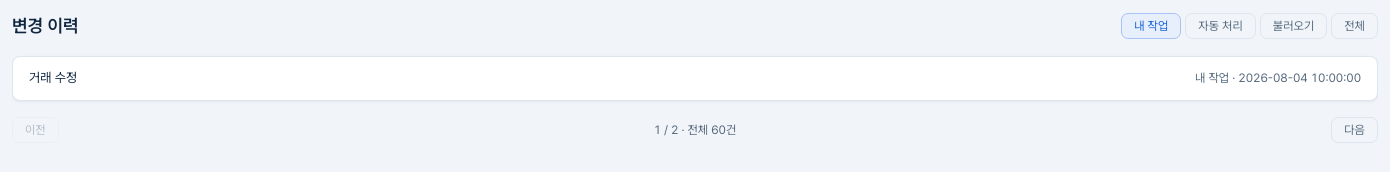
Scenario: E. 페이지 나눔 › E-4. 마지막 페이지에서 다음은 눌리지 않는다
The width and height of the screenshot is (1390, 172).
Expected: the text "거래 수정" is shown, [29,69,77,88]
Click the button "다음" at (1355, 130), box [1331,117,1378,143]
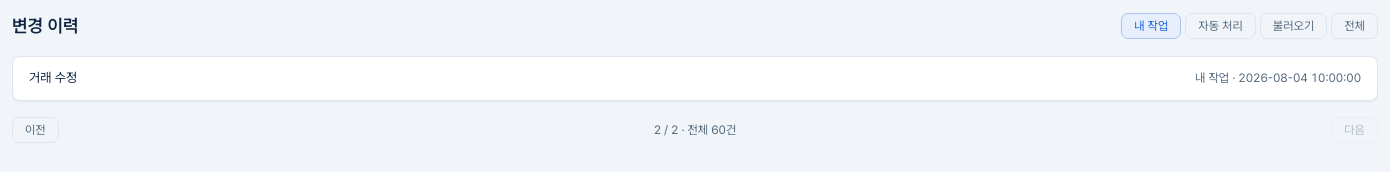
Expected: the button "다음" is disabled, [1331,117,1378,143]
